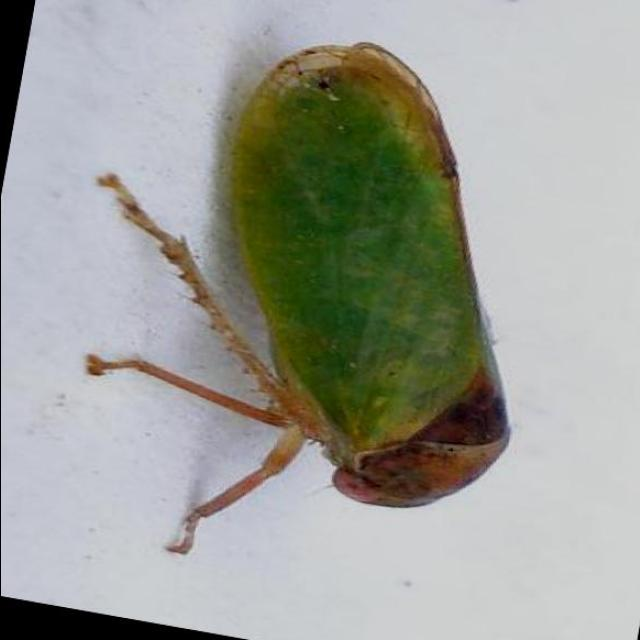green leaf hopper: (86, 44, 509, 554)
